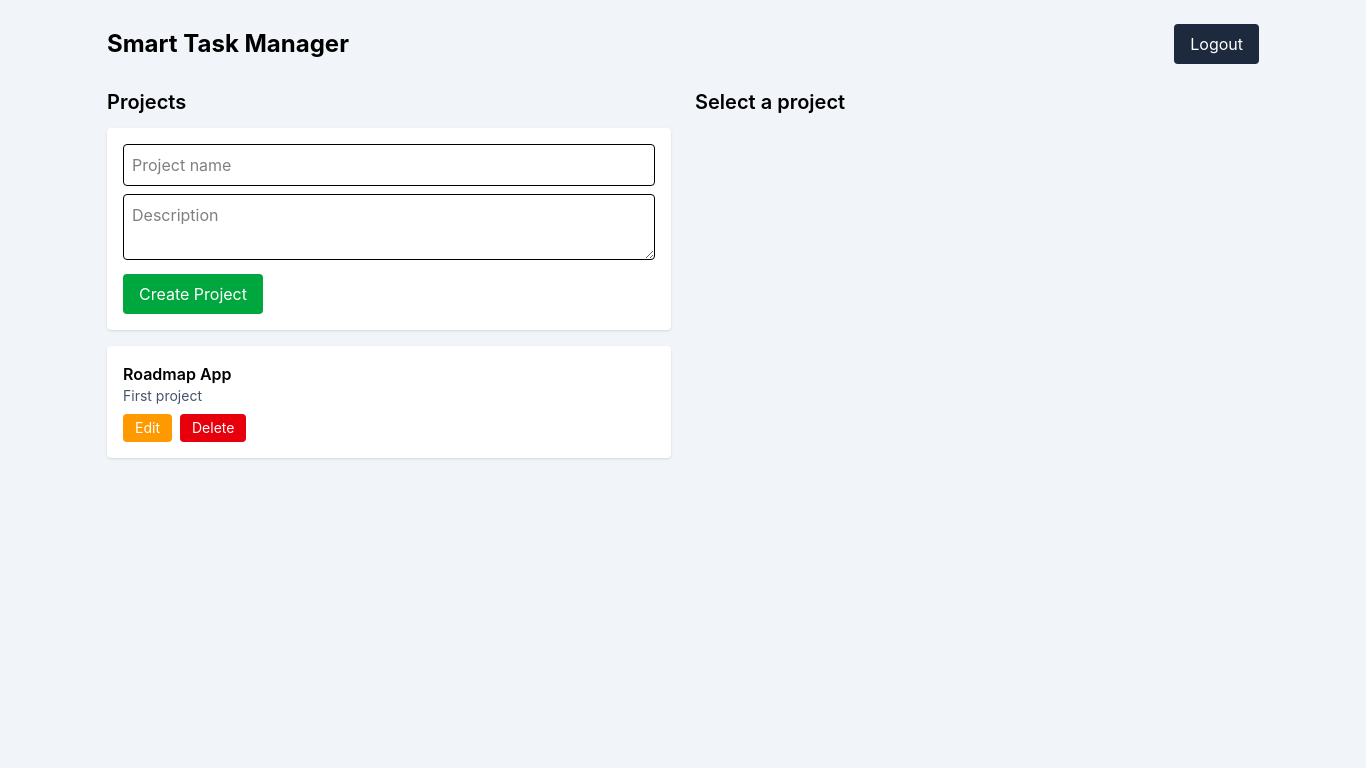
Test case: App integration › shows task validation error and keeps task form values on failed create
Click the heading "Roadmap App" at (177, 374), box [123,364,232,384]
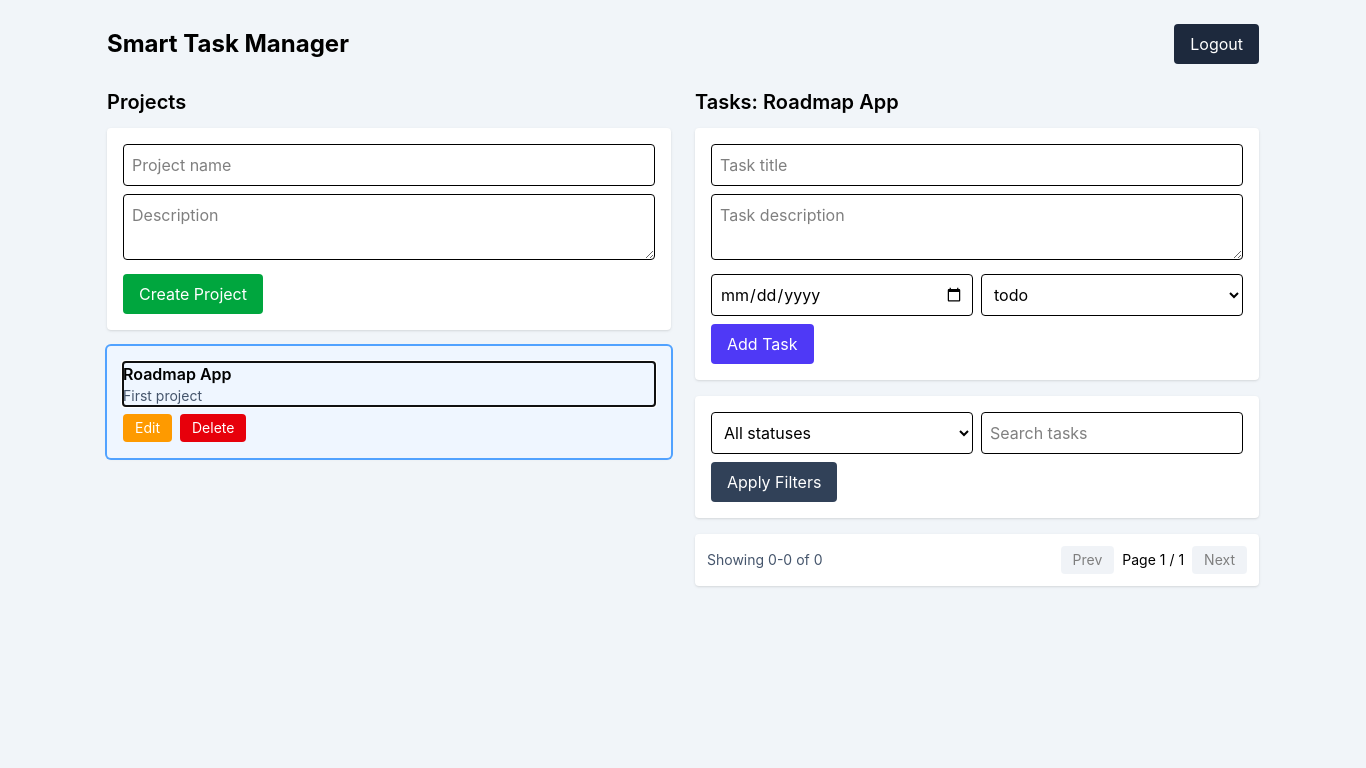
Type "Broken Task" into the field with placeholder "Task title" at (977, 165), box [711,144,1243,186]
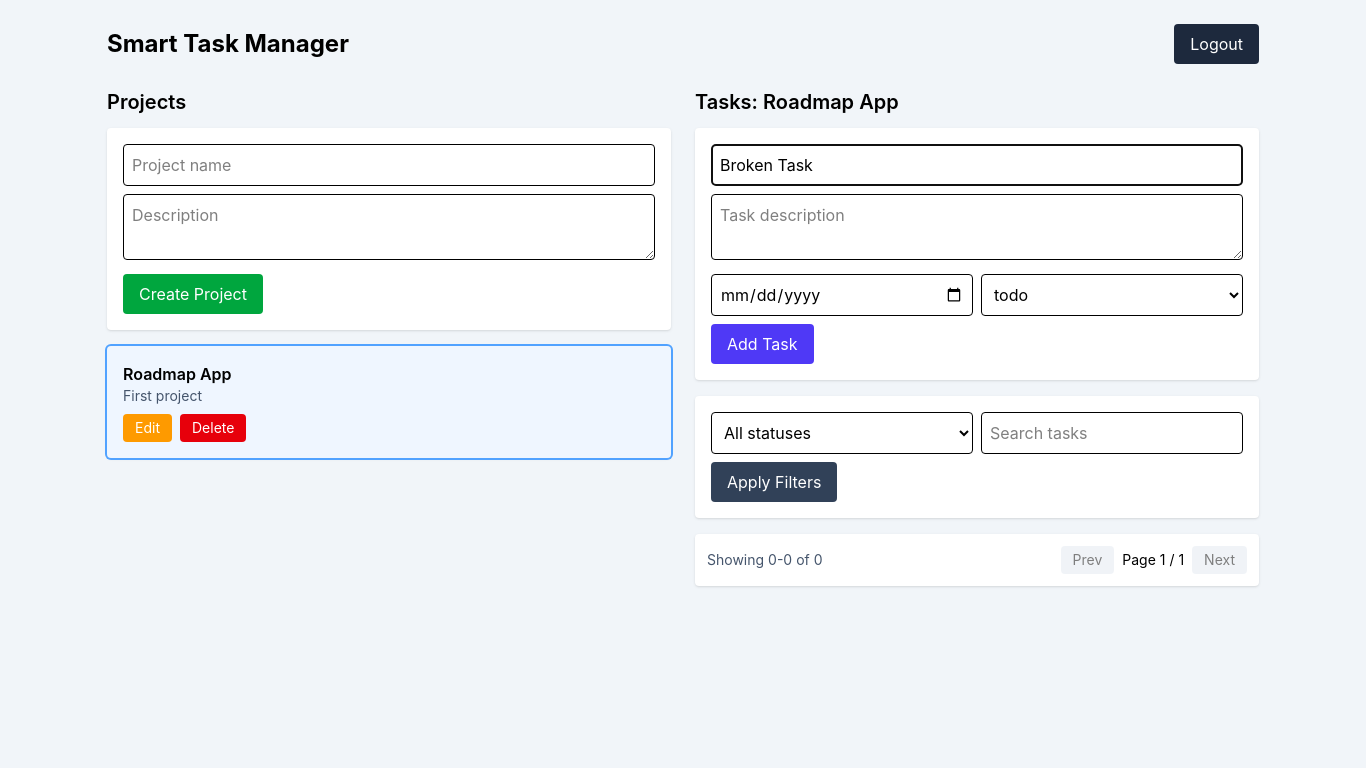
Type "Should stay in task form" into the text box with placeholder "Task description" at (977, 227), box [711,194,1243,260]
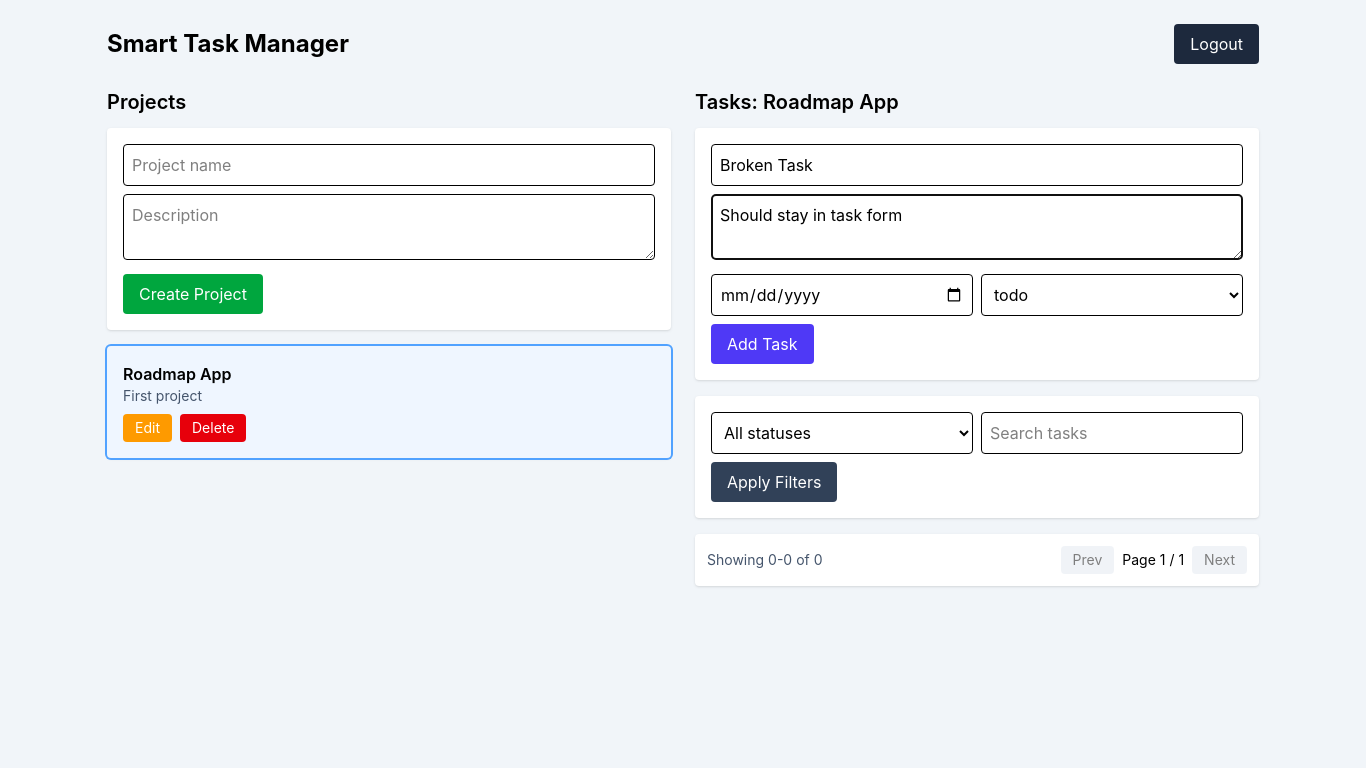
Check: the date field is shown
Type "2026-03-10" into the date field at (842, 295), box [711,274,973,316]
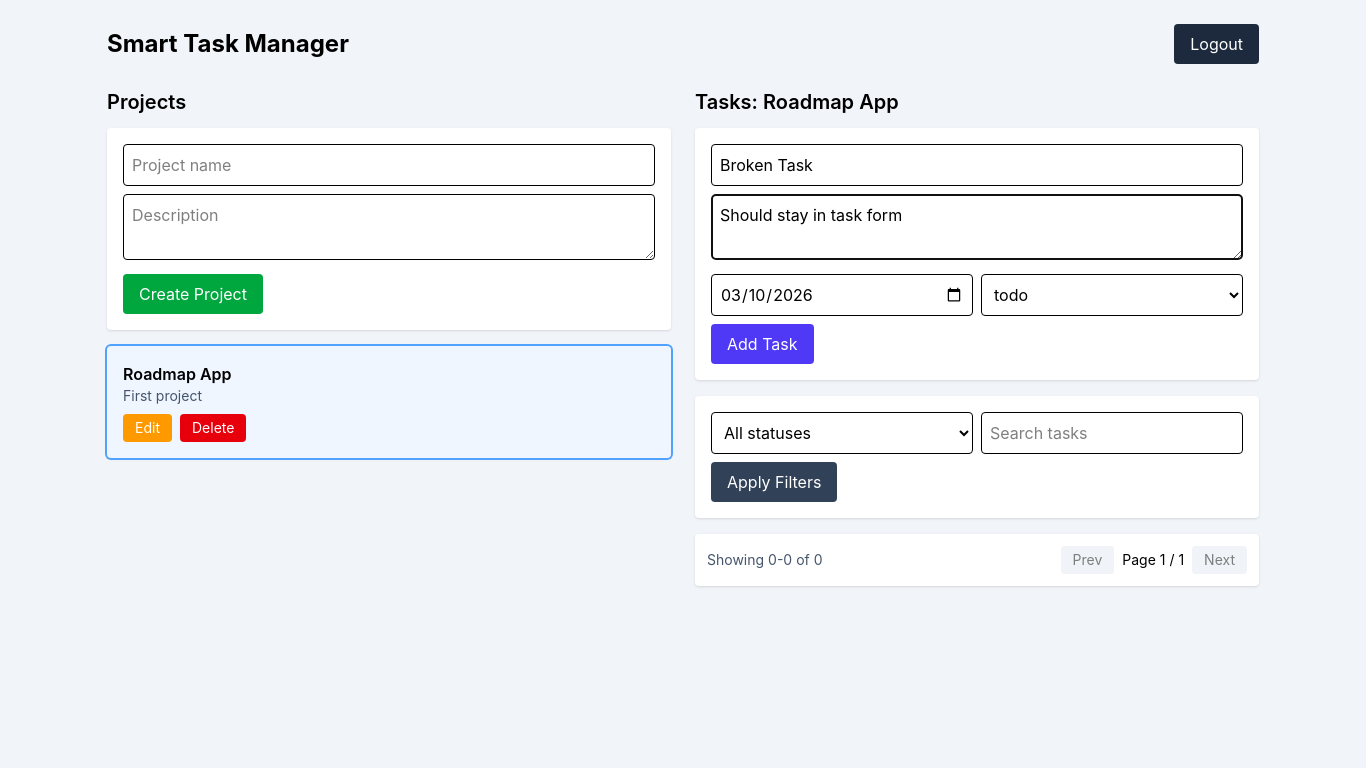
Click the button "Add Task" at (762, 344), box [711,324,814,364]
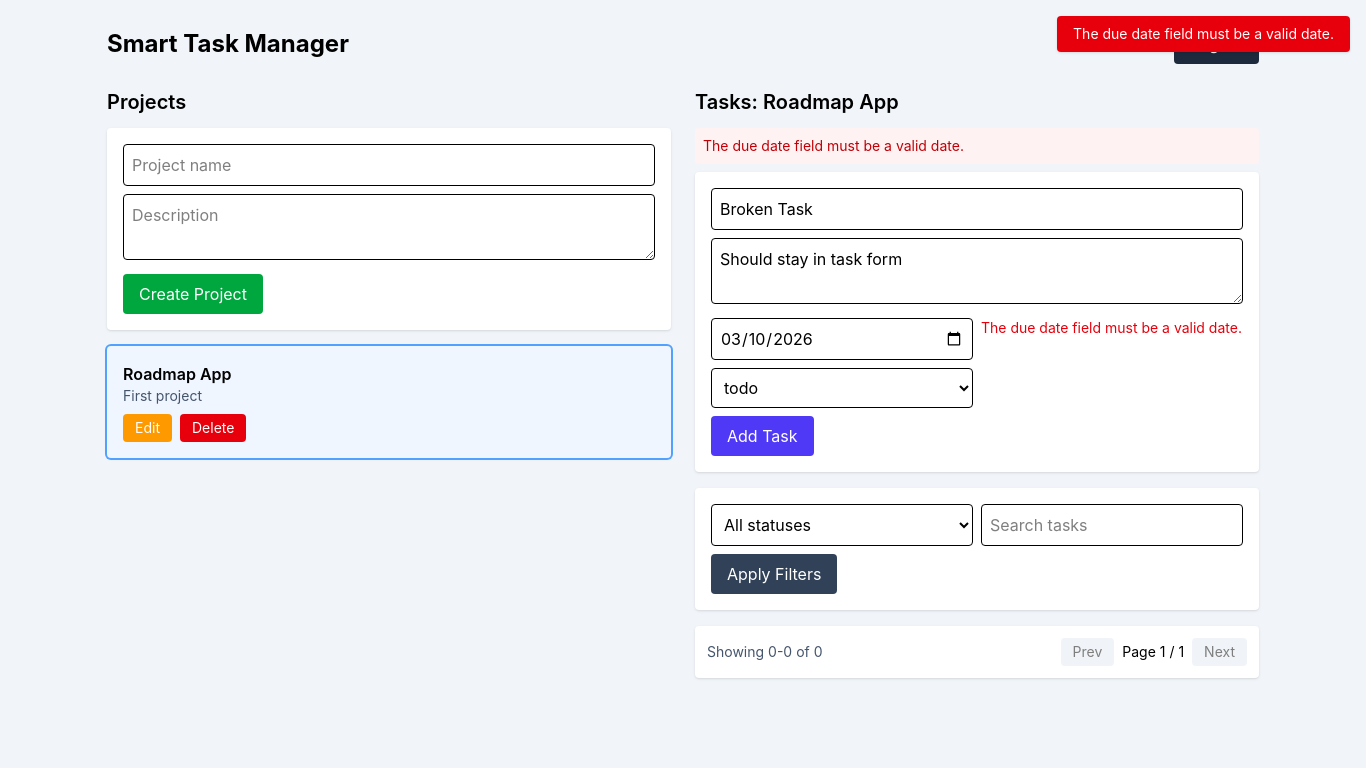
Check: the 1st text "The due date field must be a valid date." is shown, box [1057,16,1350,52]
